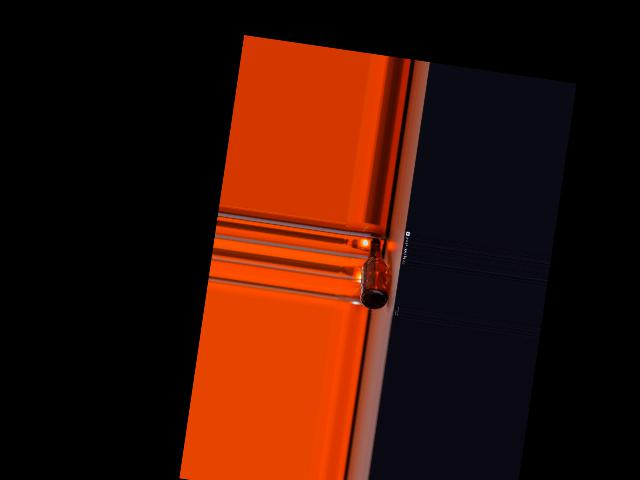beer: (356, 238, 397, 312)
